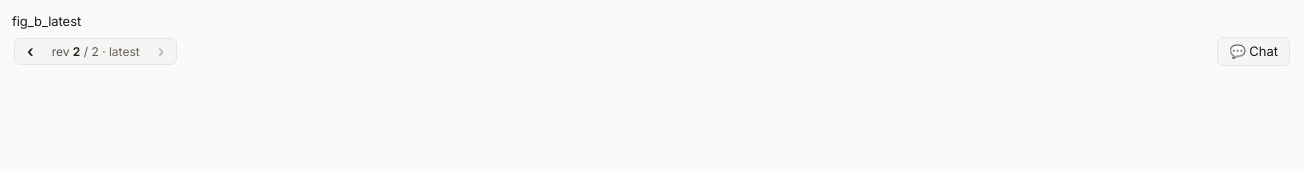
RevisionStrip › shows " · latest" indicator when at chain[0]; " · not latest" otherwise
This screenshot has width=1304, height=172.
Expected: the text with test id "displayed-id" reads "fig_b_latest", [12,13,81,29]
Expected: the button titled "Revision 2 of 2" shows "latest", [46,41,146,62]
// Step back to older — should see " · not latest"
Click the button named "Older revision" at (30, 51), box [19,41,42,61]
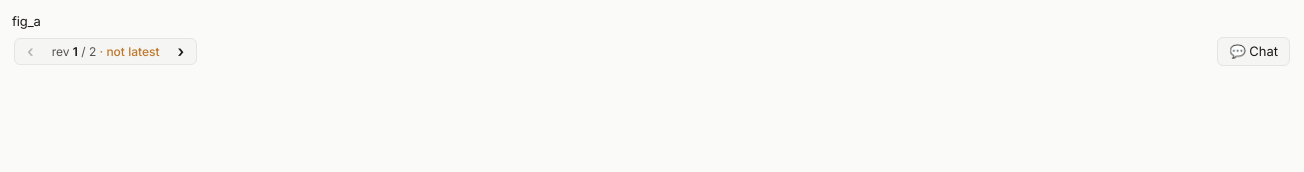
Expected: the button titled "Revision 1 of 2" shows "not latest", [46,41,166,62]
